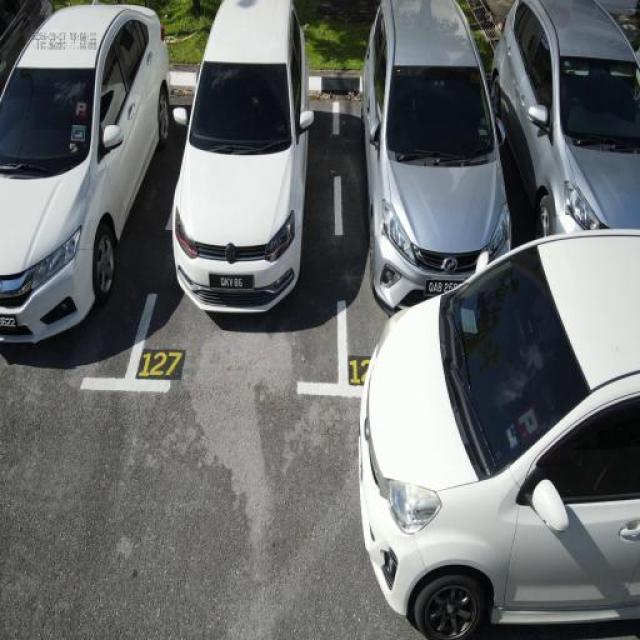Legalparking: (0, 0, 640, 332)
illegalparking: (341, 239, 640, 640)
